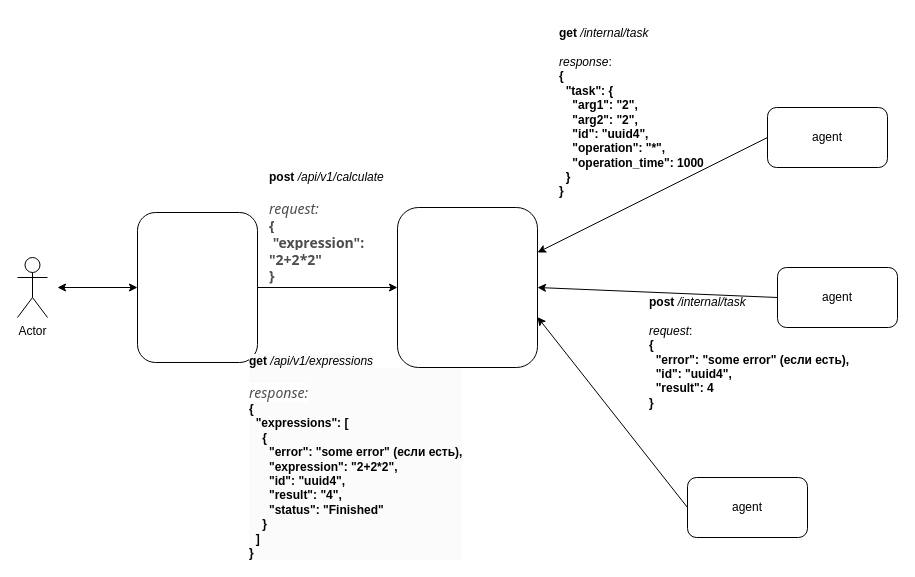
The diagram is 915 pixels wide and 577 high, and some of its shapes have lost their labels. Each missing label, with the centre of its shape:
orchestrator: (x=467, y=287)
web (Vue.js): (x=197, y=287)
